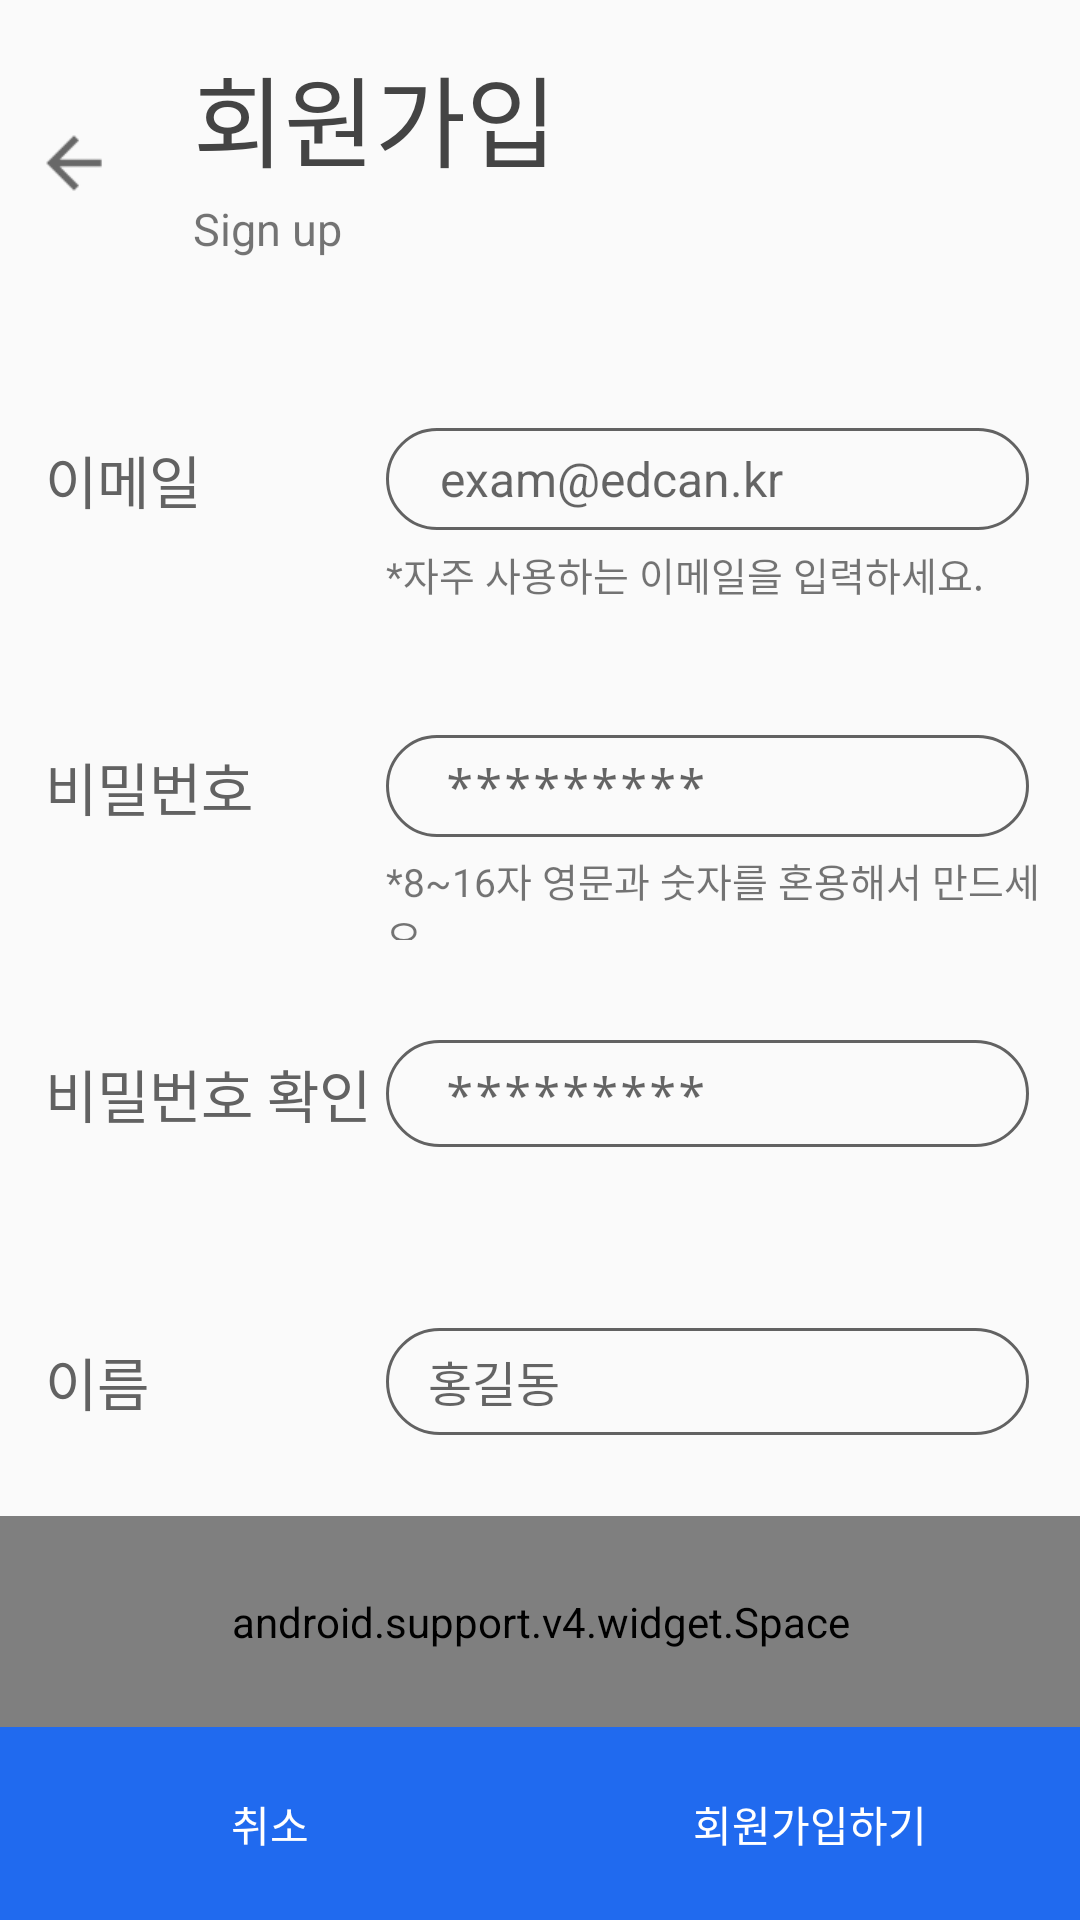

Named icons in this screenshot (1080 × 1920) and their bounding boxes, {"left": x1, "top": y1, "right": x2, "bottom": y2}:
back: {"left": 46, "top": 135, "right": 102, "bottom": 191}
